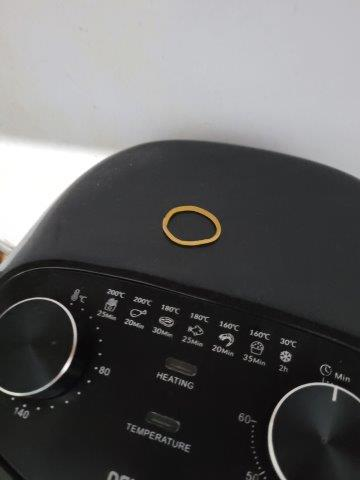karet: (161, 205, 223, 246)
